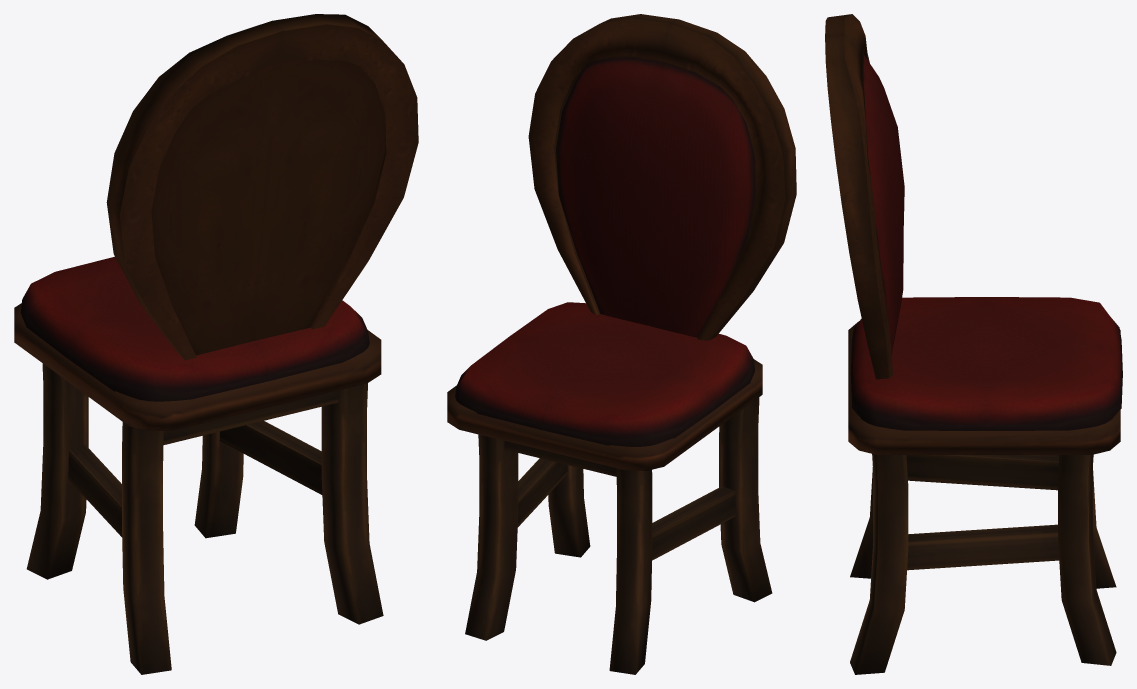
File: Chair_D.fbx
3 views of the same model, side by side, from view 1: azimuth 30°, elevation 25°; view 2: azimuth 150°, elevation 25°; view 3: azimuth 270°, elevation 25° (orthographic). The views are drawn at different scales.
Parts seen in each view (by area): view 1: Chair_Backing_A, Chair_Legs_A, Chair_Cushion_Base_A, Chair_Base_A, Chair_Legs_A_Support; view 2: Chair_Backing_A, Chair_Cushion_Base_A, Chair_Legs_A, Chair_Base_A, Chair_Legs_A_Support; view 3: Chair_Cushion_Base_A, Chair_Backing_A, Chair_Legs_A, Chair_Legs_A_Support, Chair_Base_A.
Part boxes in pixels (x1=…): Chair_Backing_A: x1=106, y1=14, x2=418, y2=360; Chair_Legs_A: x1=26, y1=363, x2=383, y2=674; Chair_Cushion_Base_A: x1=20, y1=256, x2=369, y2=401; Chair_Base_A: x1=14, y1=303, x2=381, y2=431; Chair_Legs_A_Support: x1=68, y1=390, x2=338, y2=537; Chair_Backing_A: x1=528, y1=14, x2=796, y2=340; Chair_Cushion_Base_A: x1=455, y1=302, x2=754, y2=446; Chair_Legs_A: x1=465, y1=397, x2=772, y2=674; Chair_Base_A: x1=447, y1=359, x2=762, y2=470; Chair_Legs_A_Support: x1=504, y1=441, x2=735, y2=560; Chair_Cushion_Base_A: x1=850, y1=297, x2=1122, y2=430; Chair_Backing_A: x1=825, y1=14, x2=904, y2=379; Chair_Legs_A: x1=850, y1=454, x2=1116, y2=674; Chair_Legs_A_Support: x1=906, y1=455, x2=1059, y2=570; Chair_Base_A: x1=848, y1=321, x2=1120, y2=454.
Bounding box in the file's own units: 5.84 × 11.73 × 5.39.
